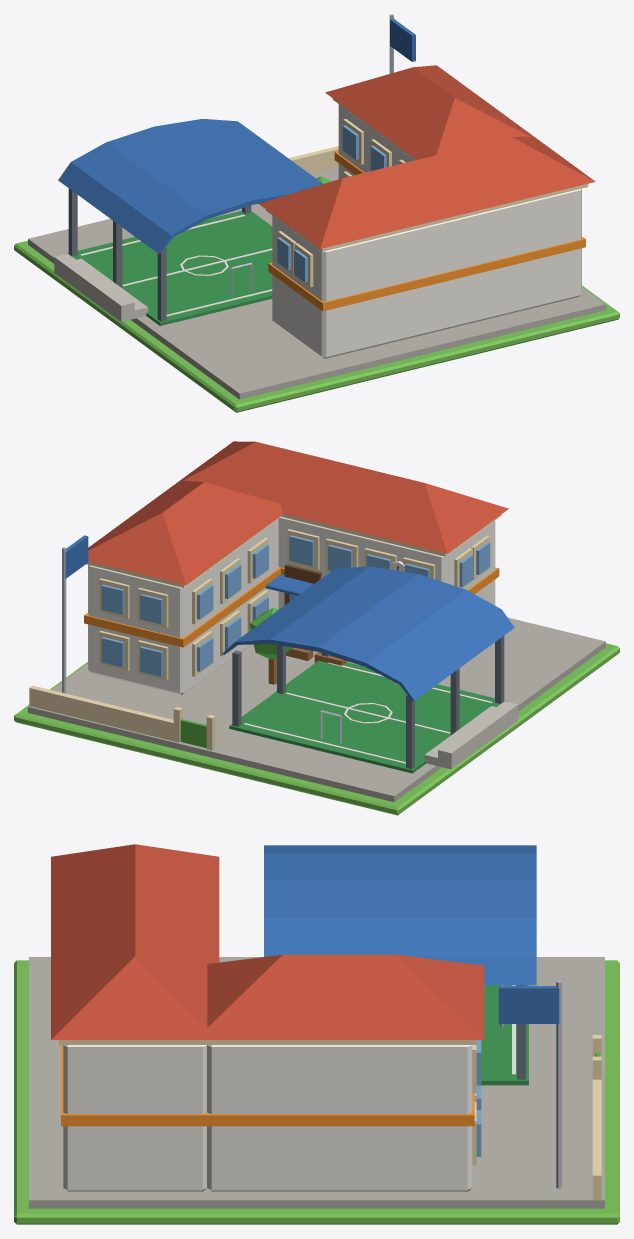
File: publicos-escola.glb
3 renders of one model, top to bottom at view 1: azimuth 30°, elevation 25°; view 2: azimuth 150°, elevation 25°; view 3: azimuth 270°, elevation 25°, orthographic. The views are drawn at different scales.
Visible parts, largest first — view 1: corpo; view 2: corpo; view 3: corpo.
Boxes of the visible parts, box(x1,y1,x2,y2) form: corpo: box(14, 14, 619, 412); corpo: box(14, 441, 619, 815); corpo: box(14, 844, 619, 1224).
Bounding box in the file's own units: 4.06 × 1.65 × 4.
